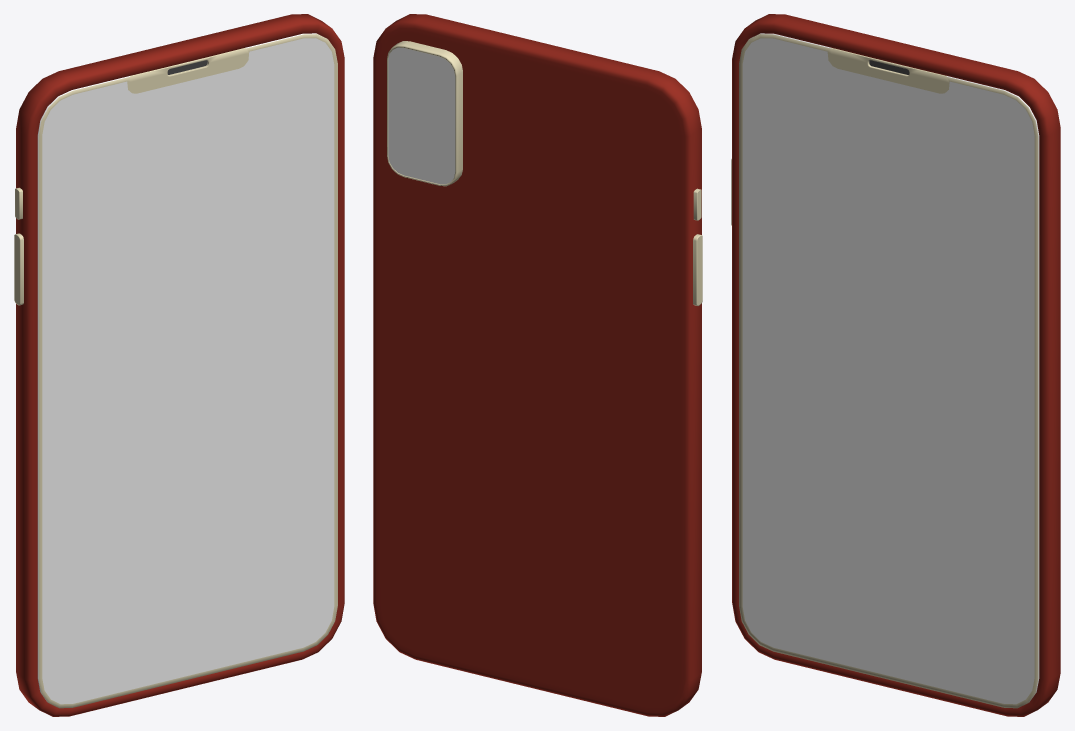
File: newSmartphone.glb
The picture shows the model from 3 angles, left to right: view 1: azimuth 30°, elevation 25°; view 2: azimuth 150°, elevation 25°; view 3: azimuth 330°, elevation 25°; orthographic projection.
Parts seen in each view (by area): view 1: SmartPhone_Screen, SmartPhone_Body, SmartPhone_Switch.002; view 2: SmartPhone_Body, SmartPhone_Glass_Back camera, SmartPhone_edge camera base, SmartPhone_Switch.002; view 3: SmartPhone_Screen, SmartPhone_Body.
Boxes of the visible parts, x1,y1,x2,y2 form: SmartPhone_Screen: [37, 33, 337, 708]; SmartPhone_Body: [16, 14, 344, 716]; SmartPhone_Switch.002: [14, 233, 23, 305]; SmartPhone_Body: [373, 14, 701, 716]; SmartPhone_Glass_Back camera: [388, 47, 455, 184]; SmartPhone_edge camera base: [387, 41, 462, 186]; SmartPhone_Switch.002: [693, 234, 702, 305]; SmartPhone_Screen: [739, 33, 1039, 708]; SmartPhone_Body: [732, 14, 1060, 716].
Size of the model in its own units: 1.89 by 3.57 by 0.2117.
